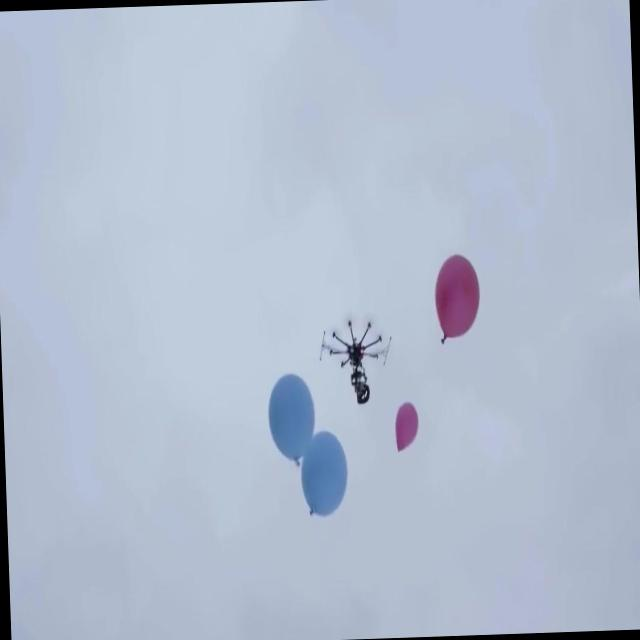drone: (317, 315, 396, 409)
